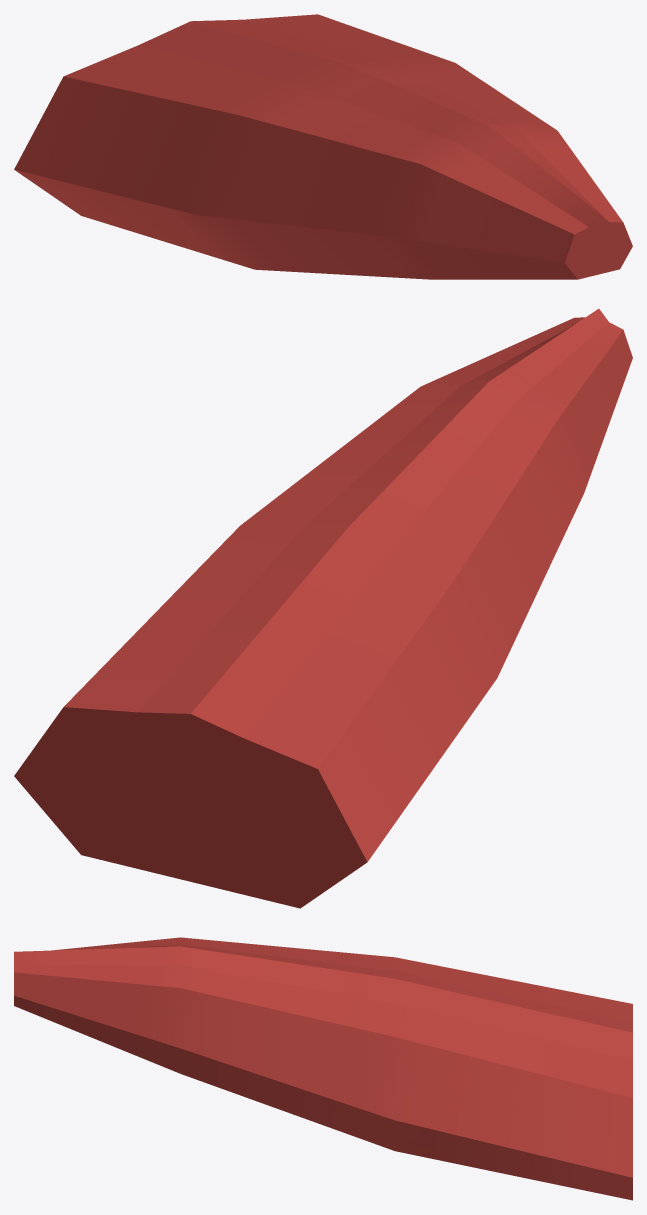
File: sport.glb
3 views of the same model, one above another, from view 1: azimuth 30°, elevation 25°; view 2: azimuth 150°, elevation 25°; view 3: azimuth 270°, elevation 25° (orthographic). The views are drawn at different scales.
Parts seen in each view (by area): view 1: lod0; view 2: lod0; view 3: lod0.
Part boxes in pixels (left/top/right/bottom): lod0: left=14, top=14, right=632, bottom=279; lod0: left=14, top=308, right=632, bottom=908; lod0: left=14, top=937, right=632, bottom=1200.
Size of what is drawn, in the model's own units: 0.26 by 0.198 by 0.52.
